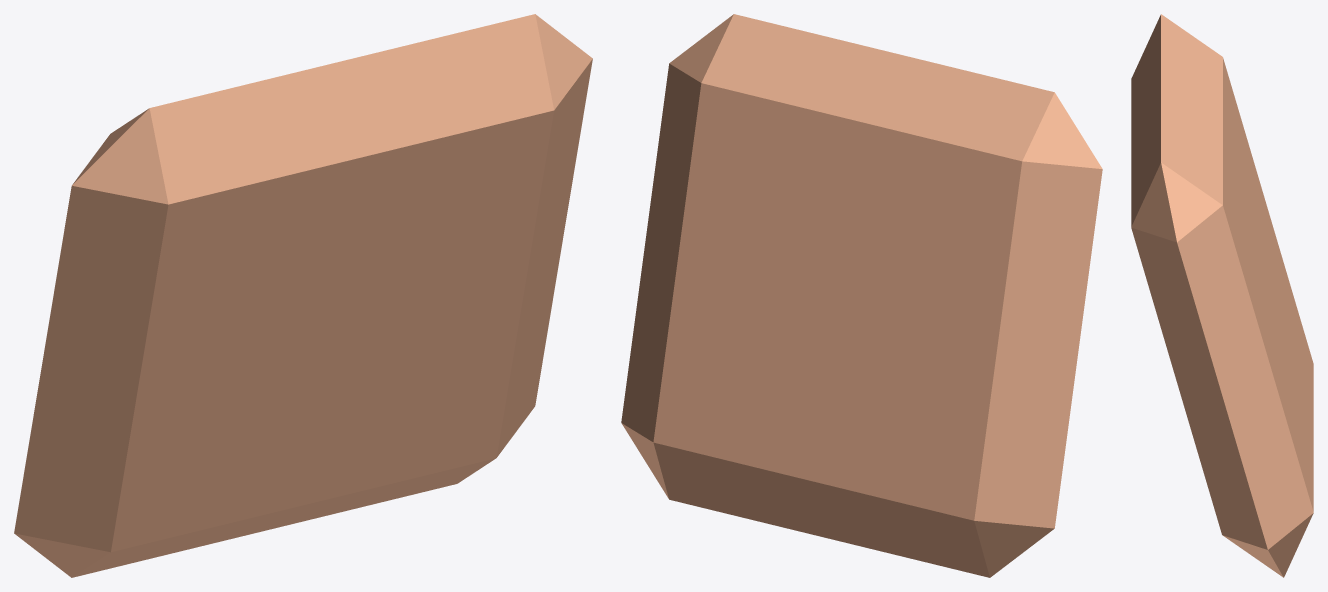
Rendered from pillow.glb.
3 views of the same model, side by side, from view 1: azimuth 30°, elevation 25°; view 2: azimuth 150°, elevation 25°; view 3: azimuth 270°, elevation 25° (orthographic). The views are drawn at different scales.
Parts seen in each view (by area): view 1: pillow; view 2: pillow; view 3: pillow.
Part boxes in pixels (<box>): pillow: <box>14,14,592,577</box>; pillow: <box>621,14,1102,577</box>; pillow: <box>1131,14,1313,577</box>.
Bounding box in the file's own units: 2.3 × 2.22 × 0.8848.
